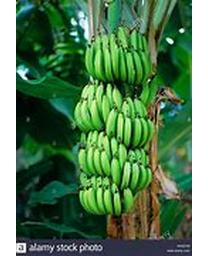banana: (74, 27, 155, 216)
